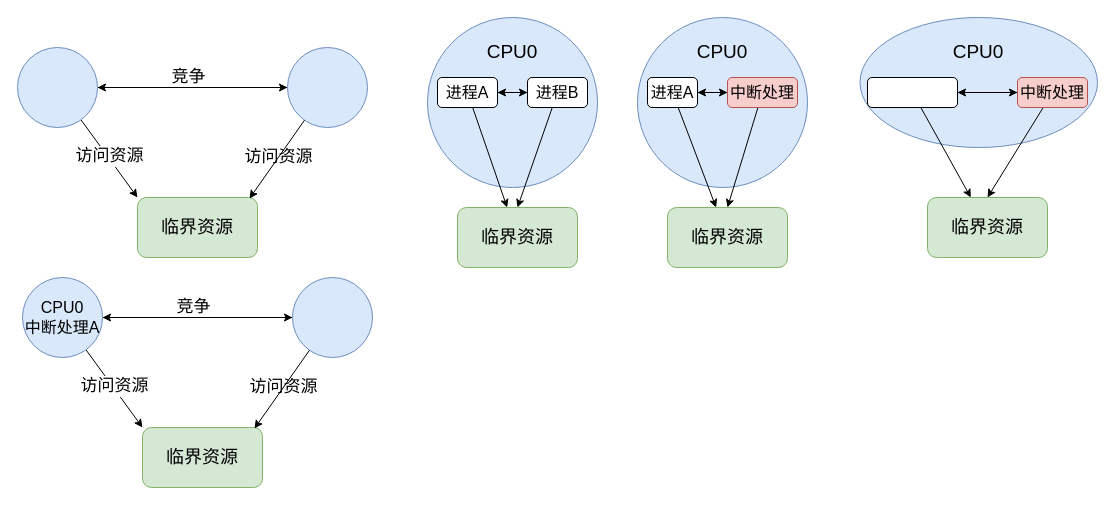
Some shapes in this 1115 by 505 pixel diagram are drawn without their labels. The shapes that lost their labels are listed below. From the top down, each one's centre as x and y in pixels, then its label:
(57,87): CPU0 进程A
(327,87): CPU1 进程B
(912,92): 中断下半部
(332,317): CPU1 中断处理B
